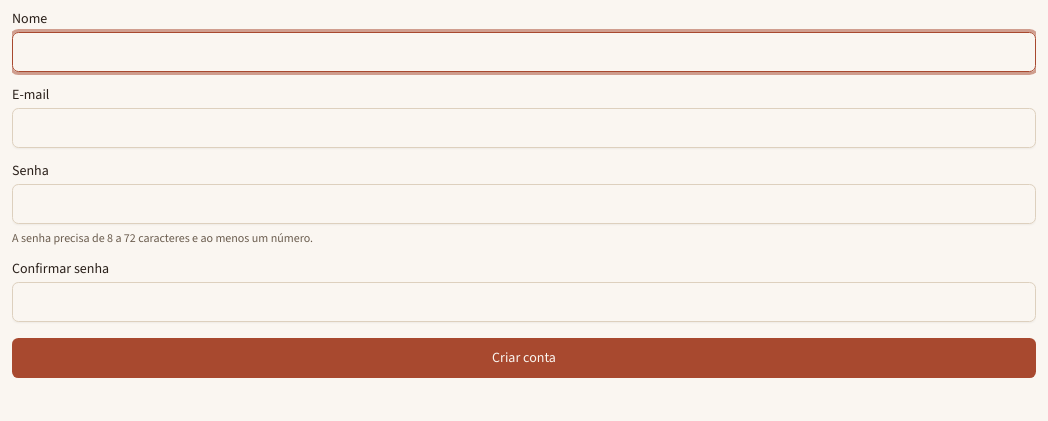
Test case: RegisterForm › puts a duplicate e-mail on the e-mail field, not in a banner
Type "Ana Leitora" into the field labelled "Nome" at (524, 52), box [12,32,1036,72]
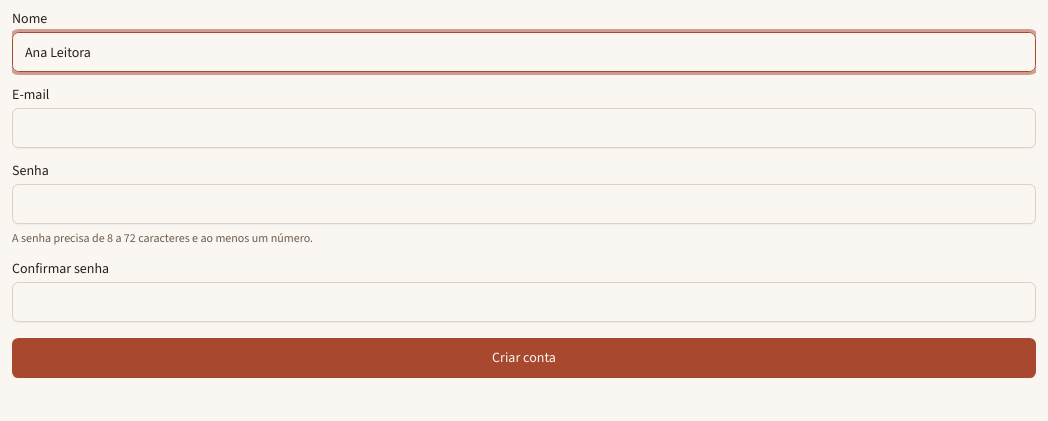
Type "ana@bookland.com" into the field labelled "E-mail" at (524, 128), box [12,108,1036,148]
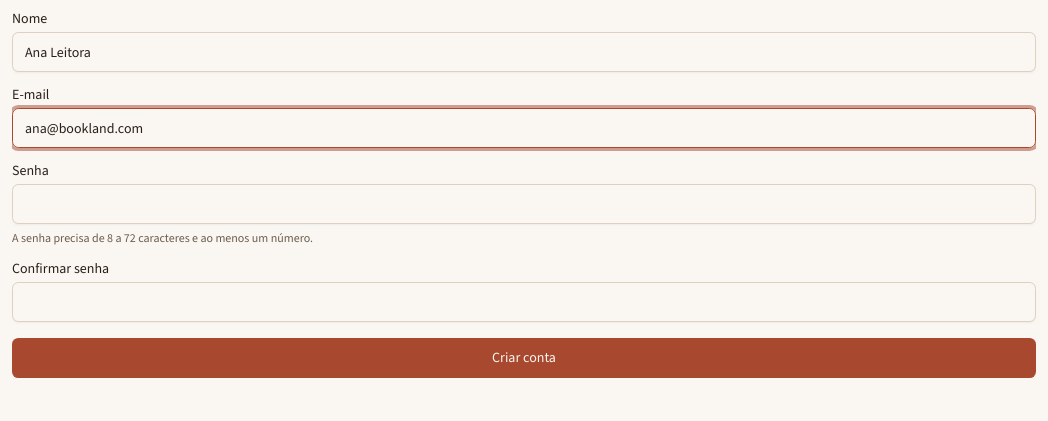
Type "senha1234" into the password field labelled "Senha" at (524, 204), box [12,184,1036,224]
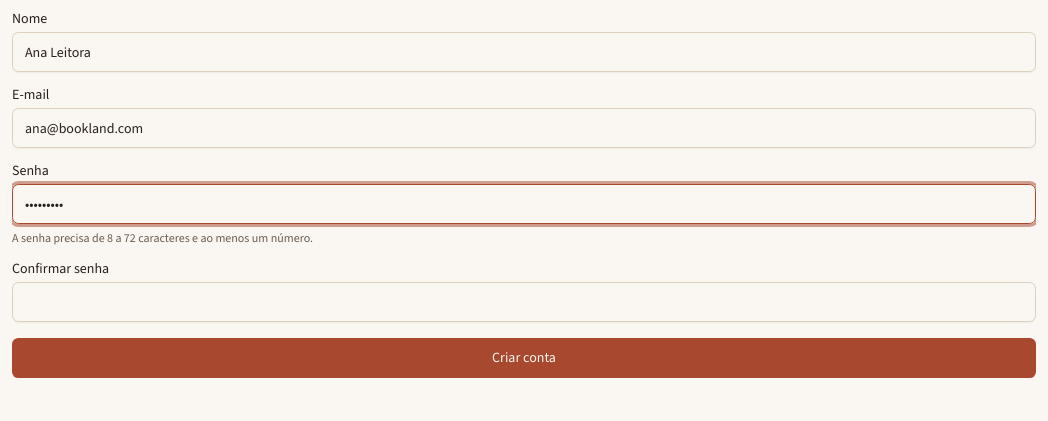
Type "senha1234" into the password field labelled "Confirmar senha" at (524, 302), box [12,282,1036,322]
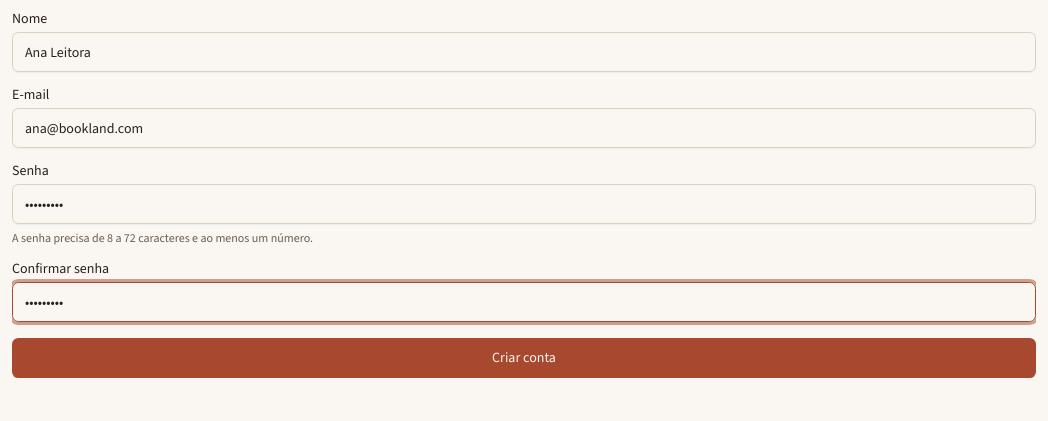
Click the button "Criar conta" at (524, 358), box [12,338,1036,378]
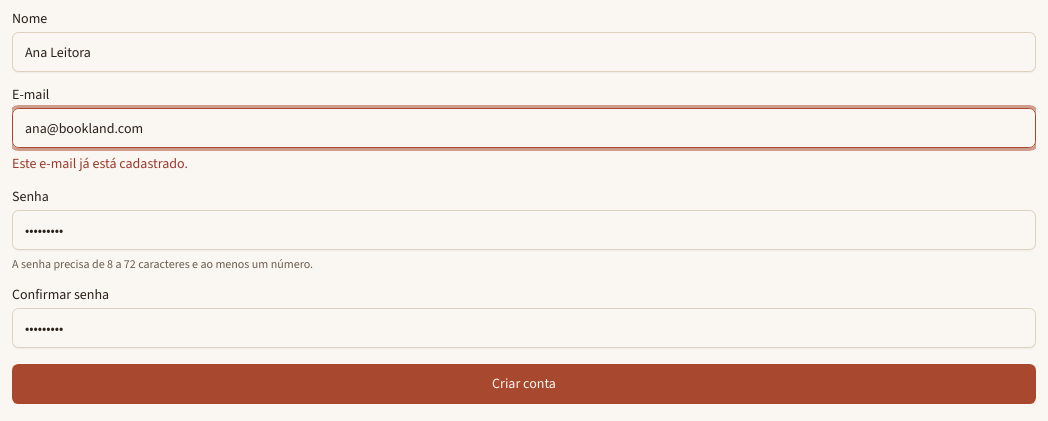
Check: the text "Este e-mail já está cadastrado." is shown, box [12,154,188,173]
